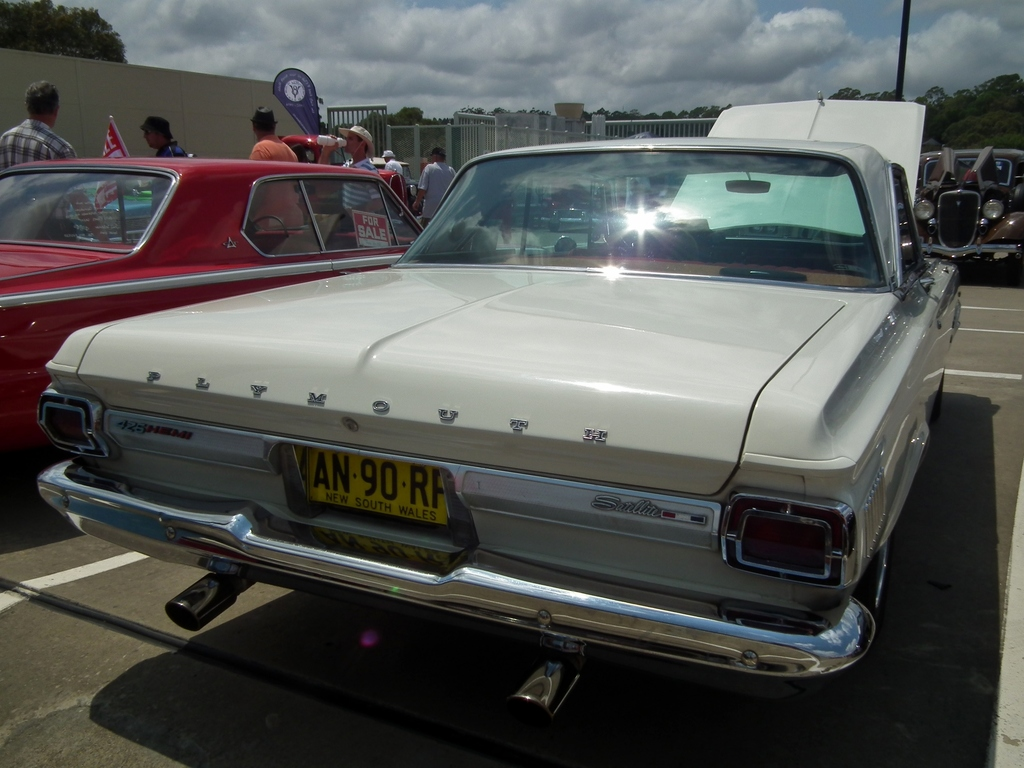cars: (31, 87, 968, 722), (0, 149, 425, 454), (924, 137, 1023, 201)
